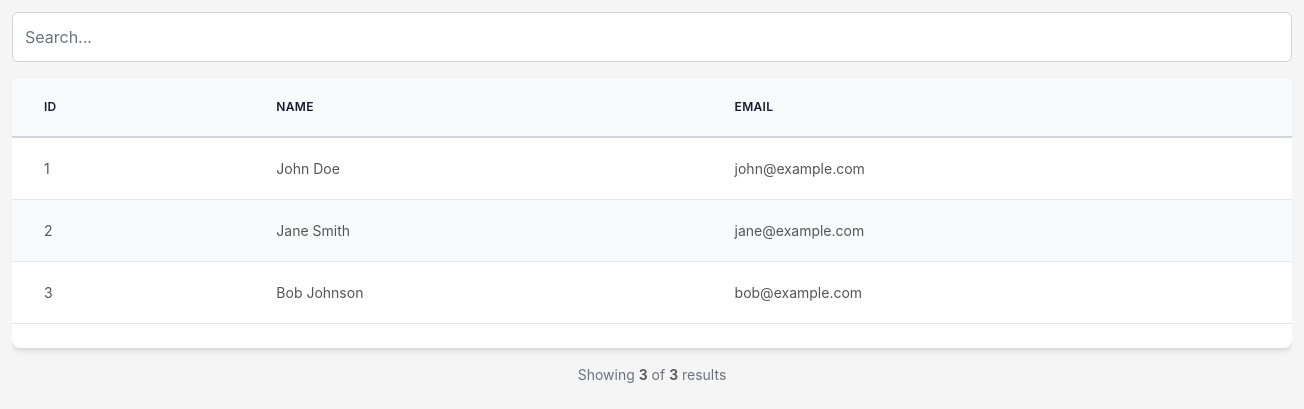
DataTable Component › sorts data when column header is clicked
What coordinates should you click on to do the following:
click the button "Name"
I would click on:
 (295, 106)
Its box is x1=244 y1=78 x2=702 y2=138.
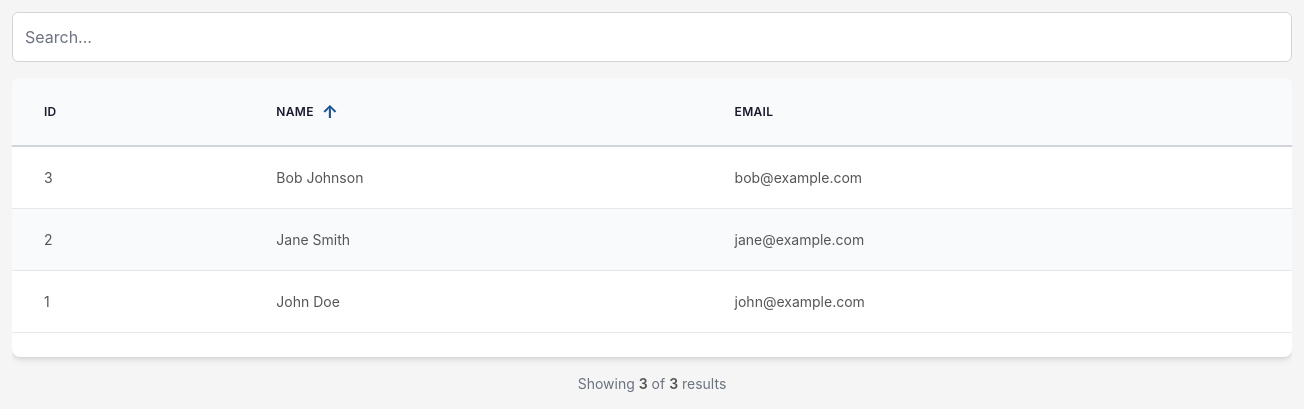
expect the icon "↑" is shown: met, box x1=322 y1=98 x2=338 y2=125
